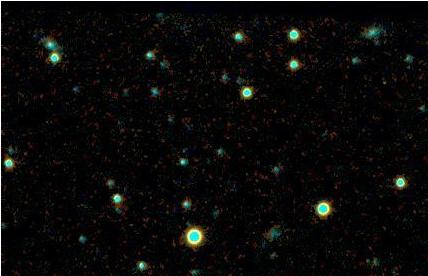star: (372, 63, 402, 93)
